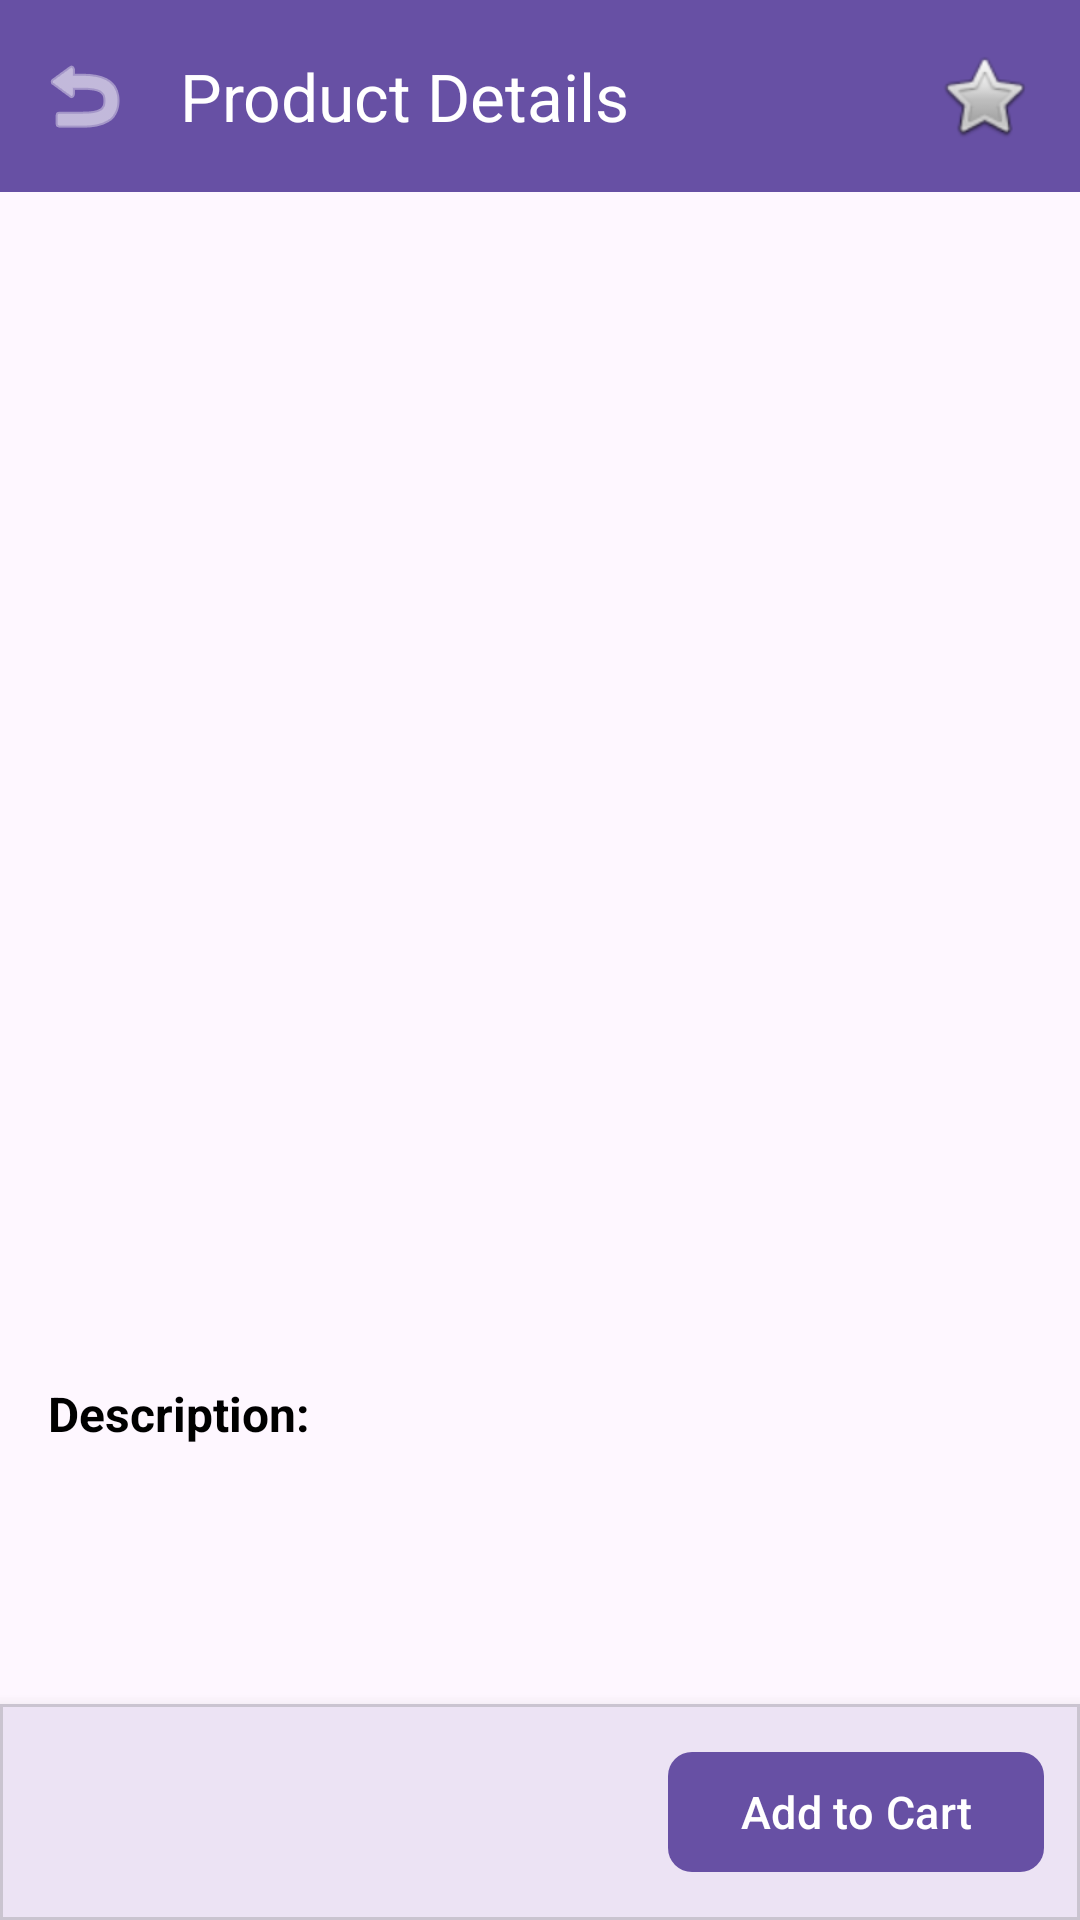

Locate icon controls on the screen. Image size 1080 x 1920, boxes as rect(x1, y1, x2, y2).
Favorite: rect(945, 60, 1025, 135)
